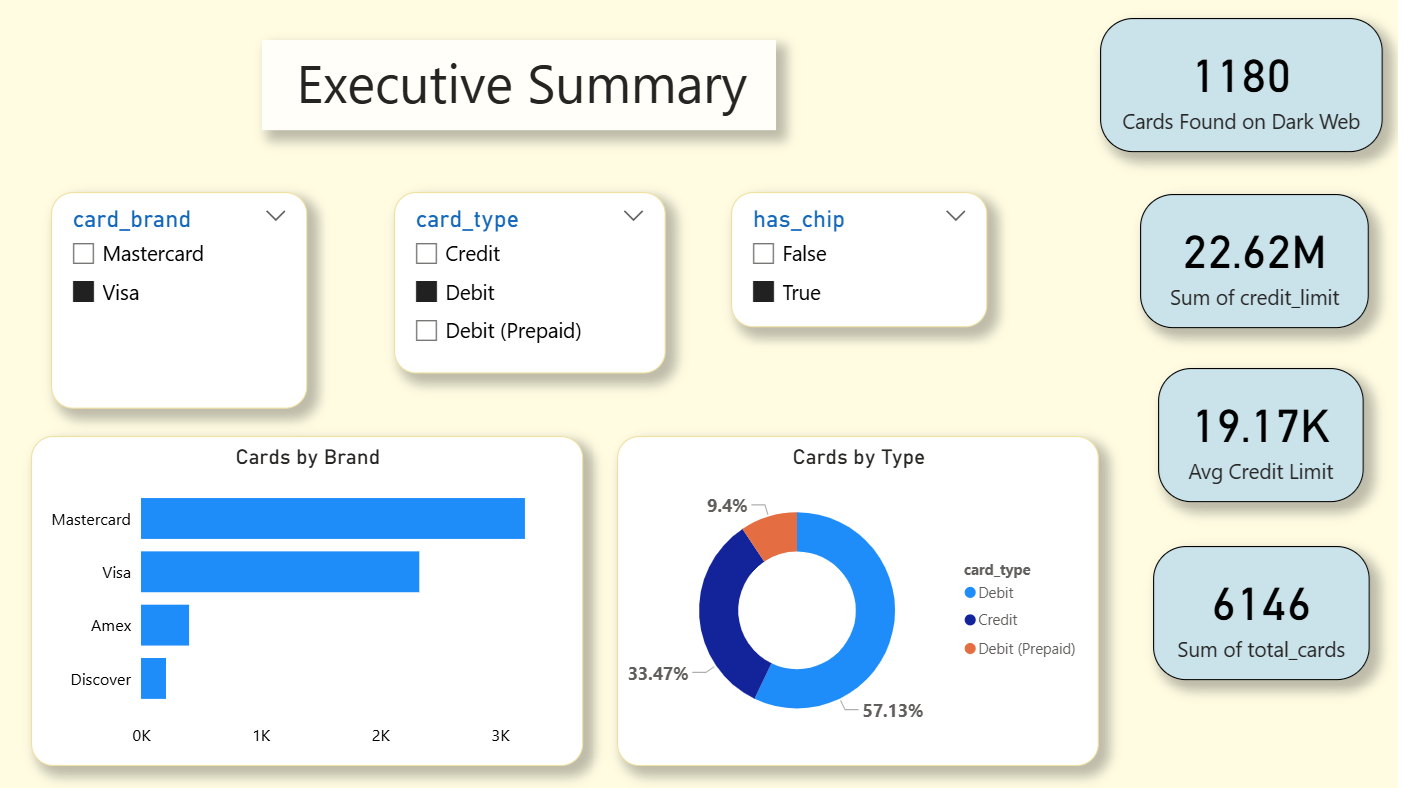

What the dashboard file says about the page in this screenshot:
{"tool":"powerbi","page":{"name":"Executive Summary","canvas":[1280,720],"ordinal":0},"visuals":[{"type":"card","fields":{"Values":["Sum(clean vw_cards_summary.total_cards)"]},"box":[1053.3,498.3,196.7,121.7],"z":0},{"type":"card","fields":{"Values":["clean cc_detail.Avg Credit Limit"]},"box":[1058.3,336.7,186.7,121.7],"z":1000},{"type":"card","fields":{"Values":["CountNonNull(clean cc_detail.card_on_dark_web)"]},"box":[1005,18.3,256.7,121.7],"z":2000},{"type":"card","fields":{"Values":["Sum(clean cc_detail.credit_limit)"]},"box":[1041.7,178.3,208.3,121.7],"z":3000},{"type":"barChart","title":"Cards by Brand","fields":{"Category":["clean vw_cards_summary.card_brand"],"Y":["Sum(clean vw_cards_summary.total_cards)"]},"box":[33.3,398.3,501.7,300],"z":4000},{"type":"donutChart","title":"Cards by Type","fields":{"Category":["clean vw_cards_summary.card_type"],"Y":["Sum(clean vw_cards_summary.total_cards)"]},"box":[566.7,398.3,438.3,300],"z":5000},{"type":"slicer","fields":{"Values":["clean cc_detail.card_brand"]},"box":[51.7,176.7,233.3,196.7],"z":6000},{"type":"slicer","fields":{"Values":["clean cc_detail.card_type"]},"box":[363.3,176.7,246.7,165],"z":7000},{"type":"slicer","fields":{"Values":["clean cc_detail.has_chip"]},"box":[670,176.7,233.3,123.3],"z":8000},{"type":"textbox","box":[243.3,38.3,466.7,81.7],"z":9000}]}

Visuals, with their boxes in screenshot pixels (x1, y1, x2, y2), scaled from the page's 1280x720 canvas onto the 1403x788 screenshot:
card - Sum(clean vw_cards_summary.total_cards): pyautogui.locateOnScreen(1155, 545, 1370, 679)
card - clean cc_detail.Avg Credit Limit: pyautogui.locateOnScreen(1160, 368, 1365, 502)
card - CountNonNull(clean cc_detail.card_on_dark_web): pyautogui.locateOnScreen(1102, 20, 1383, 153)
card - Sum(clean cc_detail.credit_limit): pyautogui.locateOnScreen(1142, 195, 1370, 328)
"Cards by Brand" barChart: pyautogui.locateOnScreen(36, 436, 586, 764)
"Cards by Type" donutChart: pyautogui.locateOnScreen(621, 436, 1102, 764)
slicer - clean cc_detail.card_brand: pyautogui.locateOnScreen(57, 193, 312, 409)
slicer - clean cc_detail.card_type: pyautogui.locateOnScreen(398, 193, 669, 374)
slicer - clean cc_detail.has_chip: pyautogui.locateOnScreen(734, 193, 990, 328)
textbox: pyautogui.locateOnScreen(267, 42, 778, 131)
